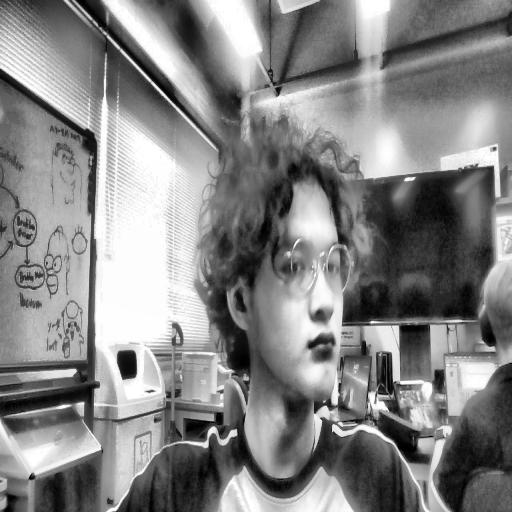Daifuku: (198, 116, 356, 432)
Not Daifuku: (477, 236, 512, 370)
